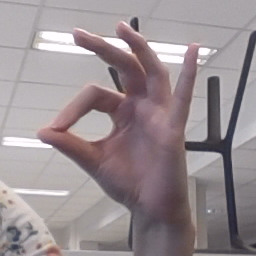O: (33, 20, 208, 216)
